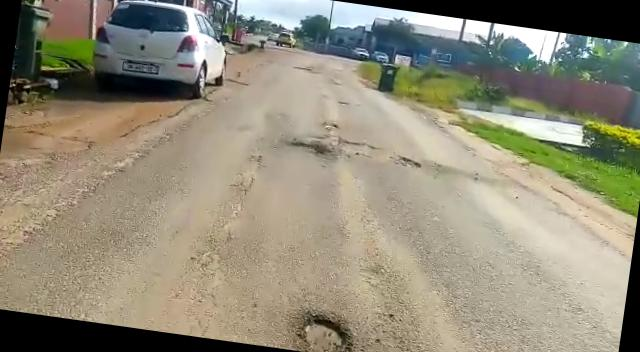pothole: (292, 309, 365, 352), (336, 139, 424, 171), (288, 138, 334, 158)
